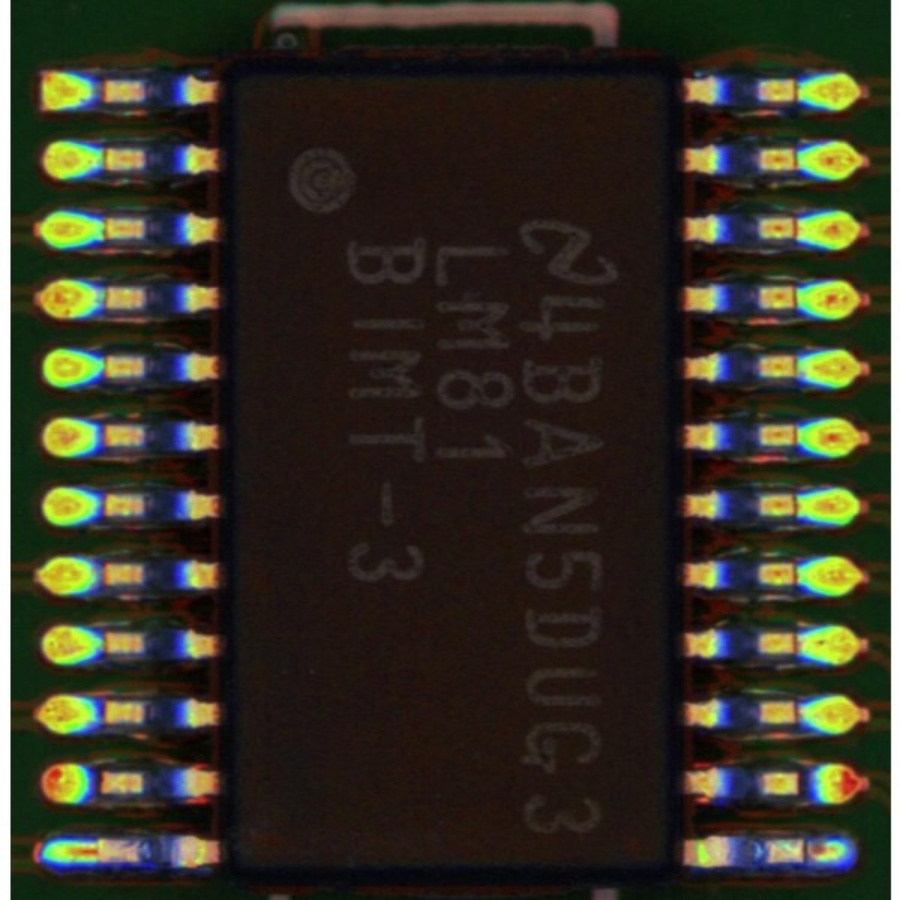Bad_podu: (784, 845, 827, 862), (76, 845, 115, 861)
